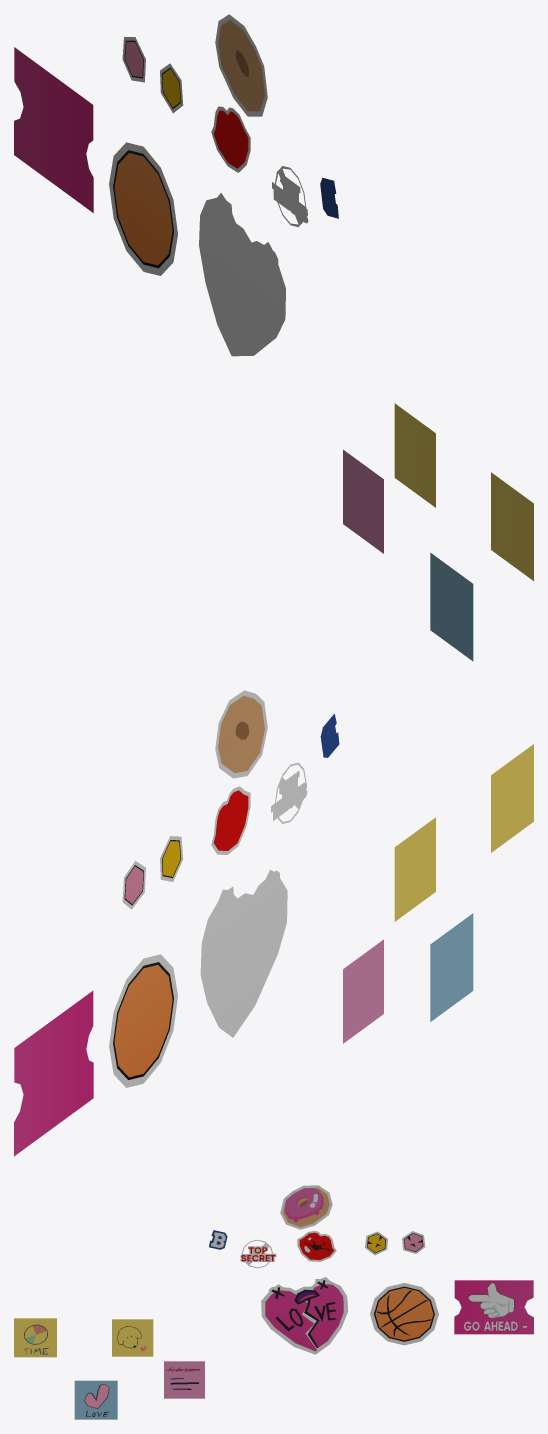
Rendered from CR_sticker.FBX.
3 renders of one model, top to bottom at view 1: azimuth 30°, elevation 25°; view 2: azimuth 150°, elevation 25°; view 3: azimuth 270°, elevation 25°, orthographic. The views are drawn at different scales.
Visible parts, largest first — view 1: CR_Sticker_001, CR_Sticker_003, CR_Sticker_002, CR_Sticker_004, CR_Sticker_012, CR_Sticker_011, CR_Sticker_010, CR_Sticker_013, CR_Sticker_005, CR_Sticker_007, CR_Sticker_008, CR_Sticker_009; view 2: CR_Sticker_001, CR_Sticker_003, CR_Sticker_002, CR_Sticker_004, CR_Sticker_012, CR_Sticker_011, CR_Sticker_010, CR_Sticker_013, CR_Sticker_005, CR_Sticker_007, CR_Sticker_008, CR_Sticker_009 (+1 smaller); view 3: CR_Sticker_001, CR_Sticker_003, CR_Sticker_002, CR_Sticker_004, CR_Sticker_012, CR_Sticker_011, CR_Sticker_010, CR_Sticker_013, CR_Sticker_005, CR_Sticker_007, CR_Sticker_008, CR_Sticker_009.
Boxes of the visible parts, x1,y1,x2,y2 form: CR_Sticker_001: (199, 193, 285, 356); CR_Sticker_003: (14, 47, 93, 212); CR_Sticker_002: (109, 142, 177, 275); CR_Sticker_004: (215, 14, 267, 116); CR_Sticker_012: (430, 552, 473, 661); CR_Sticker_011: (491, 472, 533, 580); CR_Sticker_010: (394, 403, 435, 507); CR_Sticker_013: (343, 449, 383, 553); CR_Sticker_005: (211, 106, 250, 172); CR_Sticker_007: (272, 166, 308, 227); CR_Sticker_008: (160, 63, 183, 113); CR_Sticker_009: (122, 36, 145, 82); CR_Sticker_001: (200, 870, 287, 1037); CR_Sticker_003: (14, 991, 93, 1156); CR_Sticker_002: (109, 954, 177, 1087); CR_Sticker_004: (215, 690, 267, 778); CR_Sticker_012: (430, 913, 473, 1021); CR_Sticker_011: (491, 744, 533, 852); CR_Sticker_010: (394, 817, 435, 921); CR_Sticker_013: (343, 939, 383, 1043); CR_Sticker_005: (211, 786, 250, 854); CR_Sticker_007: (271, 762, 307, 823); CR_Sticker_008: (160, 836, 183, 881); CR_Sticker_009: (122, 861, 145, 909); CR_Sticker_001: (261, 1277, 348, 1354); CR_Sticker_003: (454, 1280, 533, 1334); CR_Sticker_002: (370, 1283, 438, 1345); CR_Sticker_004: (280, 1185, 332, 1229); CR_Sticker_012: (74, 1380, 117, 1419); CR_Sticker_011: (14, 1318, 56, 1357); CR_Sticker_010: (112, 1319, 153, 1356); CR_Sticker_013: (164, 1361, 204, 1398); CR_Sticker_005: (297, 1231, 336, 1261); CR_Sticker_007: (240, 1239, 276, 1268); CR_Sticker_008: (364, 1231, 387, 1255); CR_Sticker_009: (402, 1231, 425, 1253).
Size of the model in its own units: 0.5741 by 120 by 241.
Materials: 1 (1 with a texture image).
